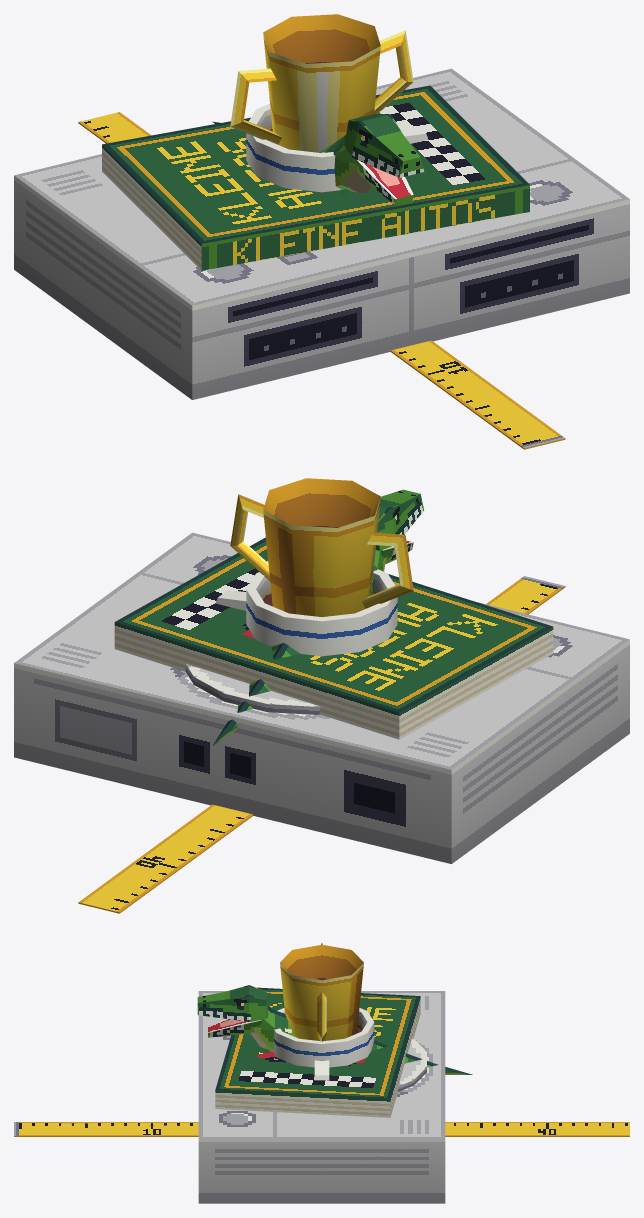
Rendered from props.glb.
The picture shows the model from 3 angles, top to bottom: view 1: azimuth 30°, elevation 25°; view 2: azimuth 150°, elevation 25°; view 3: azimuth 270°, elevation 25°; orthographic projection. The views are drawn at different scales.
Visible parts, largest first — view 1: Console, BookStack, Trophy, TapeMeasure, Dino, Mug; view 2: Console, BookStack, Trophy, TapeMeasure, Mug, Dino; view 3: Console, BookStack, Trophy, TapeMeasure, Dino, Mug.
Part boxes in pixels (x1=…): Console: x1=14, y1=68, x2=629, y2=399; BookStack: x1=102, y1=85, x2=529, y2=270; Trophy: x1=230, y1=14, x2=413, y2=152; TapeMeasure: x1=78, y1=112, x2=565, y2=449; Dino: x1=212, y1=113, x2=424, y2=206; Mug: x1=246, y1=103, x2=428, y2=192; Console: x1=14, y1=532, x2=629, y2=863; BookStack: x1=114, y1=537, x2=553, y2=739; Trophy: x1=230, y1=478, x2=413, y2=616; TapeMeasure: x1=78, y1=576, x2=565, y2=913; Mug: x1=215, y1=569, x2=397, y2=656; Dino: x1=212, y1=489, x2=423, y2=745; Console: x1=198, y1=991, x2=445, y2=1203; BookStack: x1=215, y1=987, x2=420, y2=1117; Trophy: x1=280, y1=943, x2=363, y2=1041; TapeMeasure: x1=14, y1=1122, x2=629, y2=1136; Dino: x1=197, y1=985, x2=472, y2=1074; Mug: x1=273, y1=1008, x2=374, y2=1080.
Bounding box in the file's own units: 17 × 9 × 30.
Materials: 1 (1 with a texture image).
